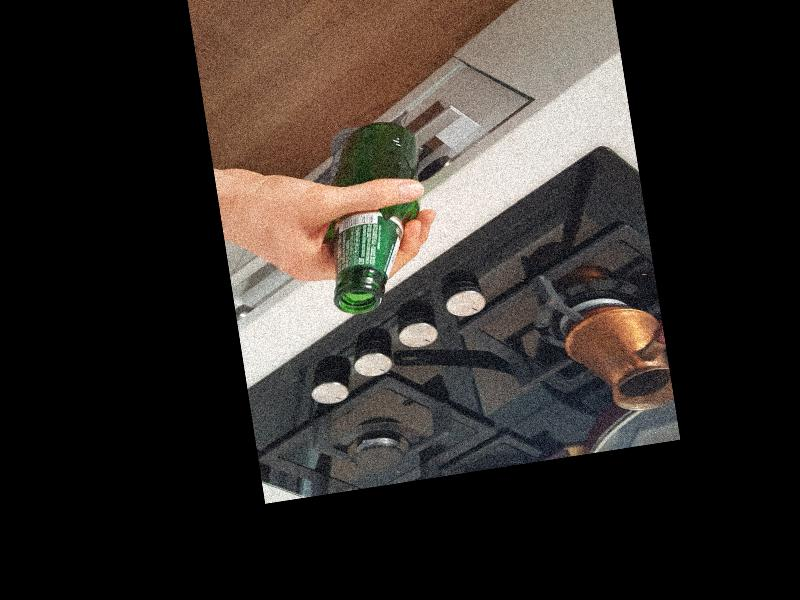Beer: (308, 116, 440, 317)
